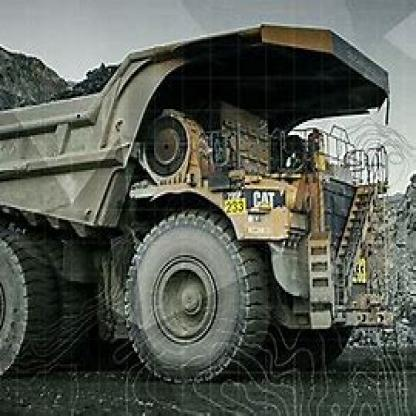dump_truck: (9, 19, 382, 382)
